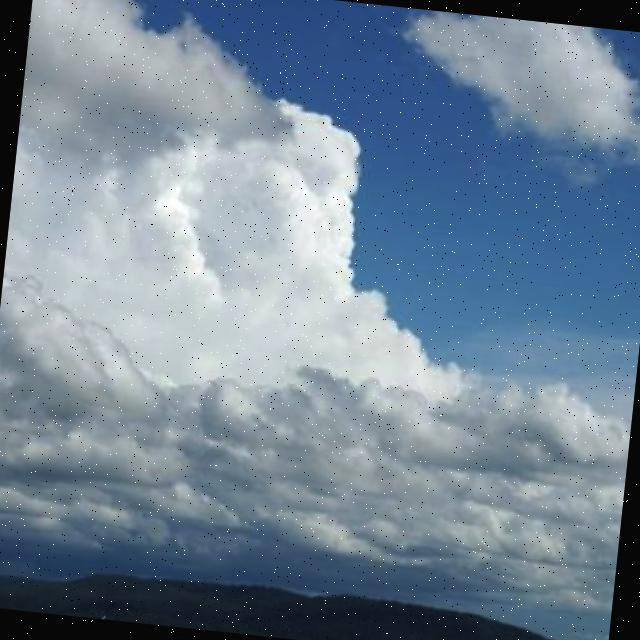Cu: (1, 21, 640, 556)
